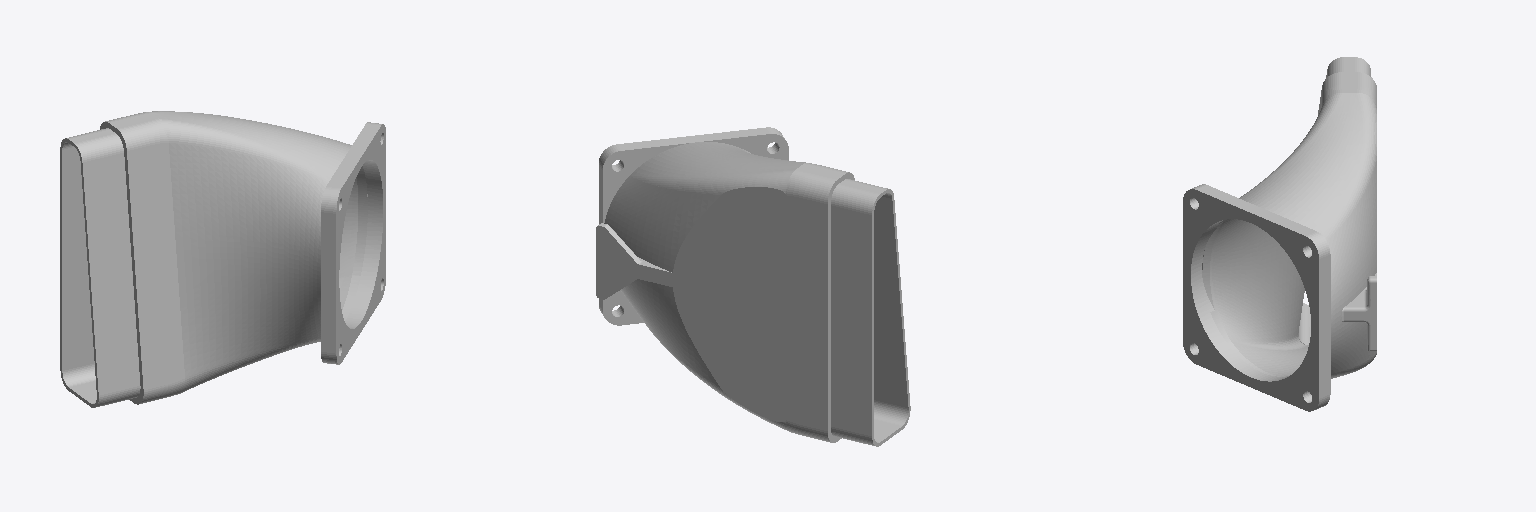
The model's file is fan_left.obj.
The picture shows the model from 3 angles: view 1: azimuth 30°, elevation 25°; view 2: azimuth 150°, elevation 25°; view 3: azimuth 270°, elevation 25°; orthographic projection.
Visible parts, largest first — view 1: 1; view 2: 1; view 3: 1.
Part boxes in pixels (x1,y1,x2,y2): 1: (60, 111, 385, 407); 1: (596, 127, 910, 446); 1: (1183, 57, 1376, 411).
Bounding box in the file's own units: 108 × 90 × 60.47.